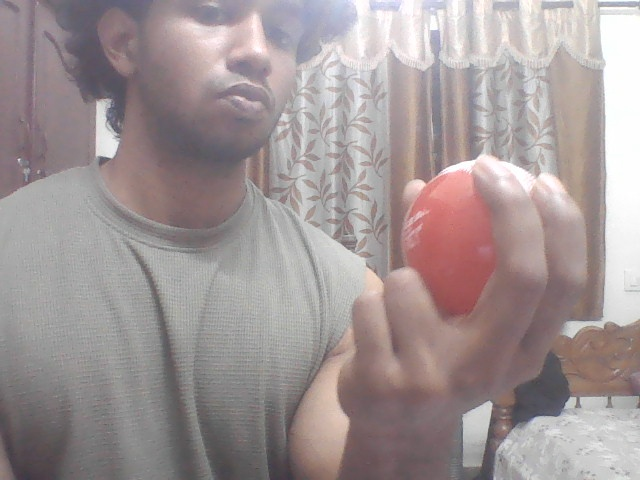cricket_ball: (399, 161, 537, 308)
